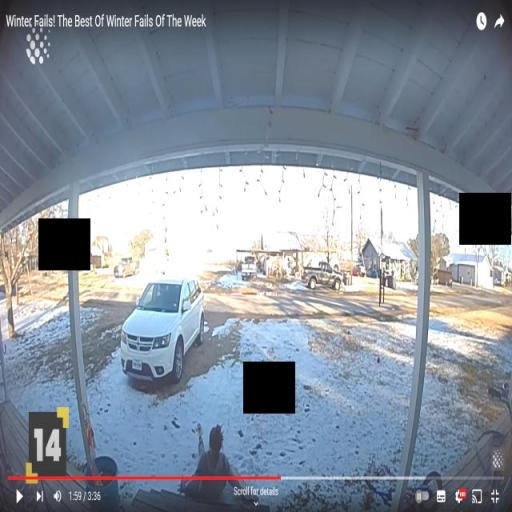Fall: (179, 414, 251, 512)
